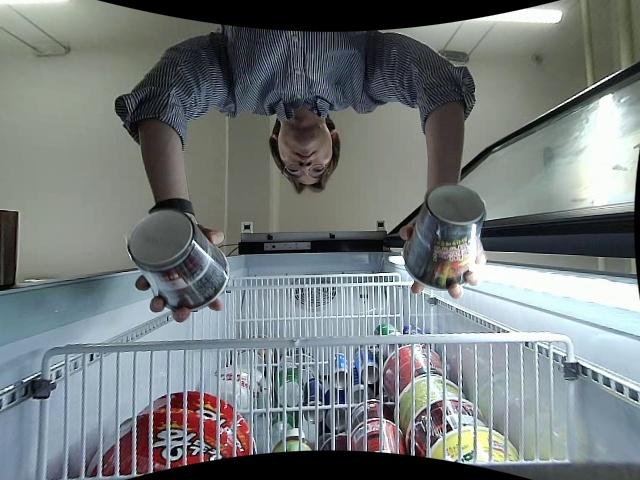00_hand: (133, 230, 225, 321), (398, 220, 488, 301)
08_buldak_S: (129, 210, 229, 311), (403, 185, 487, 287)
